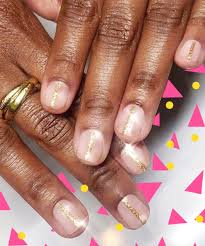nail: (51, 198, 86, 236), (115, 192, 150, 229), (115, 103, 146, 141), (78, 127, 103, 163), (42, 79, 69, 110), (176, 38, 202, 68), (120, 144, 146, 173)
